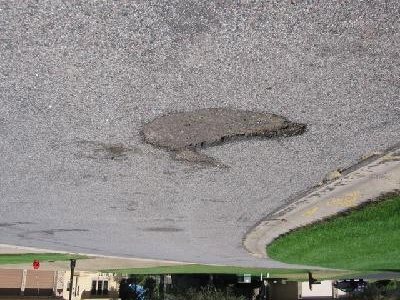pothole: (137, 106, 309, 153), (171, 149, 223, 168), (107, 142, 131, 155)
